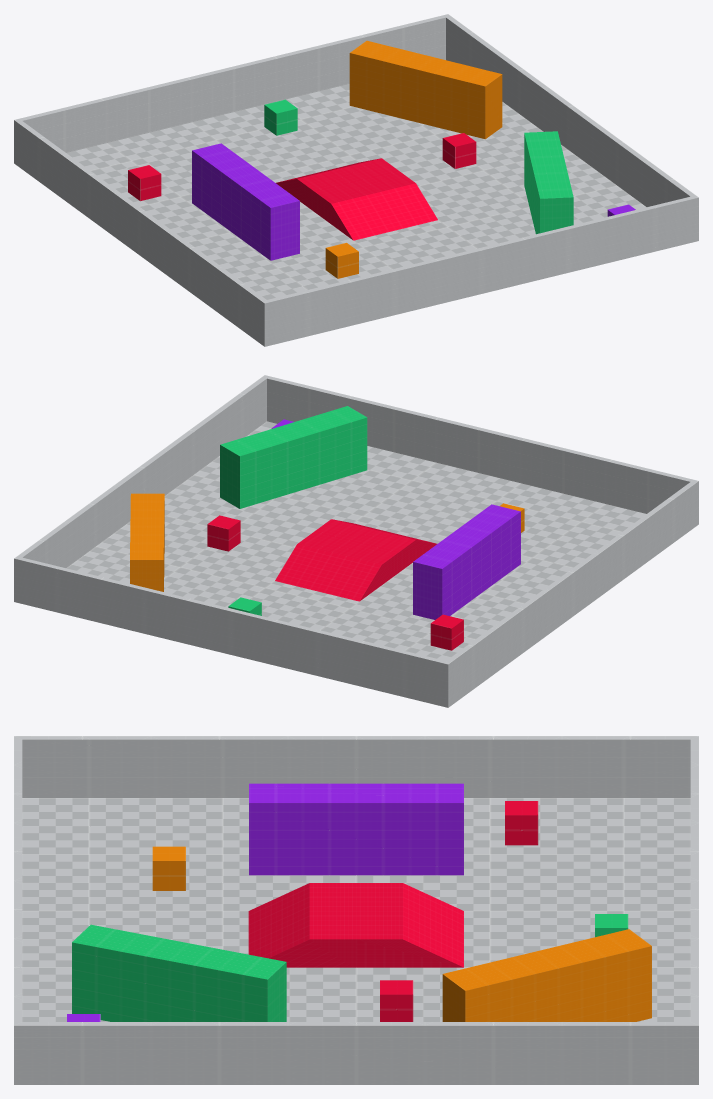
The model's file is KenneyPlayground.glb.
3 views of the same model, one above another, from view 1: azimuth 30°, elevation 25°; view 2: azimuth 150°, elevation 25°; view 3: azimuth 270°, elevation 25° (orthographic). The views are drawn at different scales.
Parts seen in each view (by area): view 1: Walls, Ground, MiniWallYellow, MiniWallPurple, Ramp, MiniWallGreen, Ramp1, CubeRed, CubeGreen, CubeRed2, CubeYellow; view 2: Walls, Ground, MiniWallGreen, MiniWallPurple, Ramp1, MiniWallYellow, Ramp, CubeRed, CubeRed2; view 3: Walls, Ground, MiniWallPurple, MiniWallGreen, MiniWallYellow, Ramp1, Ramp, CubeYellow, CubeRed2, CubeRed, CubeGreen.
Part boxes in pixels (box(x1,y1,x2,y2)): Walls: box(14, 14, 698, 346); Ground: box(66, 84, 646, 299); MiniWallYellow: box(349, 40, 502, 139); MiniWallPurple: box(192, 143, 299, 260); Ramp: box(314, 171, 437, 240); MiniWallGreen: box(524, 131, 573, 234); Ramp1: box(276, 158, 398, 211); CubeRed: box(442, 133, 476, 168); CubeGreen: box(264, 99, 297, 135); CubeRed2: box(128, 165, 161, 201); CubeYellow: box(325, 242, 358, 278); Walls: box(14, 375, 698, 707); Ground: box(66, 421, 646, 660); MiniWallGreen: box(220, 406, 367, 508); MiniWallPurple: box(413, 504, 520, 619); Ramp1: box(275, 531, 398, 601); MiniWallYellow: box(130, 493, 164, 591); Ramp: box(314, 519, 436, 572); CubeRed: box(207, 515, 240, 551); CubeRed2: box(430, 614, 463, 650); Walls: box(14, 736, 698, 1084); Ground: box(22, 798, 690, 1021); MiniWallPurple: box(249, 783, 463, 875); MiniWallGreen: box(72, 924, 286, 1021); MiniWallYellow: box(442, 929, 651, 1021); Ramp1: box(356, 883, 463, 967); Ramp: box(248, 883, 356, 967); CubeYellow: box(152, 846, 185, 890); CubeRed2: box(505, 801, 538, 845); CubeRed: box(380, 980, 413, 1021); CubeGreen: box(595, 914, 628, 937).
Size of the model in its own units: 41 by 4.97 by 41.
Materials: 6 (6 with a texture image).
